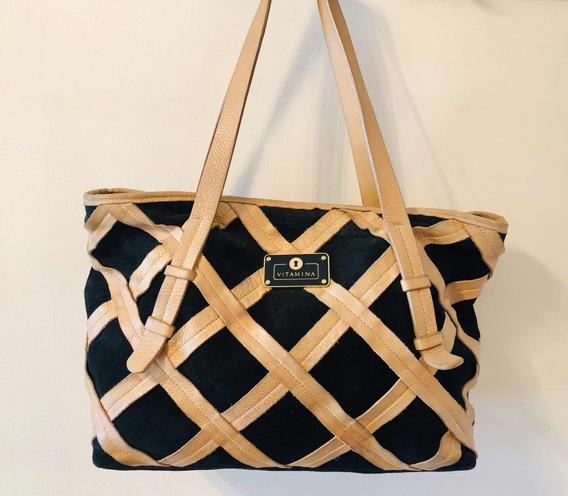cartera: (80, 1, 511, 475)
